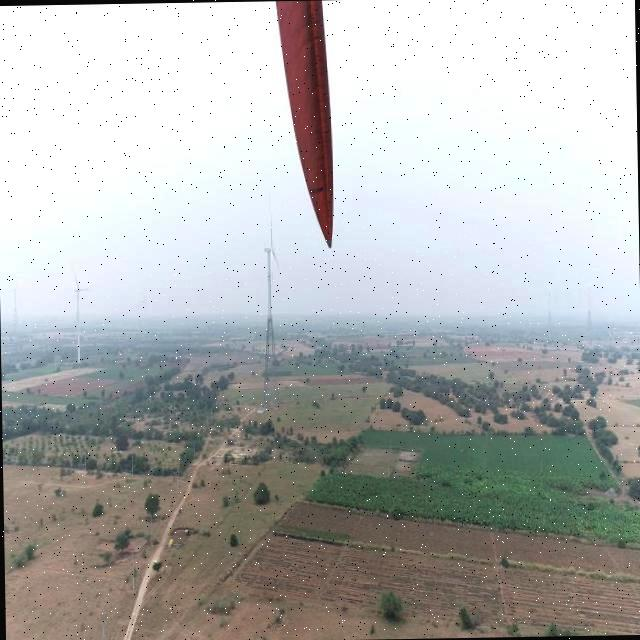Dirt: (277, 2, 335, 250)
